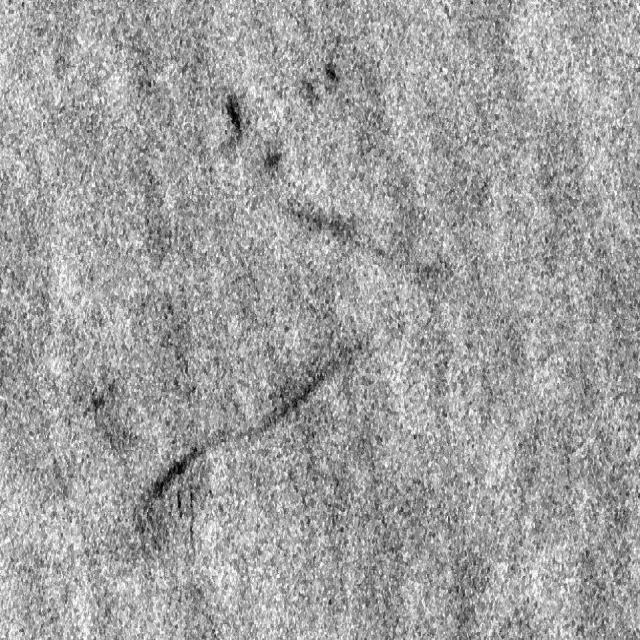oil-spill: (237, 339, 365, 451), (128, 445, 210, 560), (281, 190, 369, 263), (285, 48, 352, 116), (214, 84, 253, 153), (256, 133, 288, 191), (79, 382, 109, 436)
